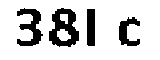3: (10, 4, 45, 54)
8: (49, 6, 80, 51)
I: (83, 1, 107, 52)
c: (115, 14, 150, 52)
